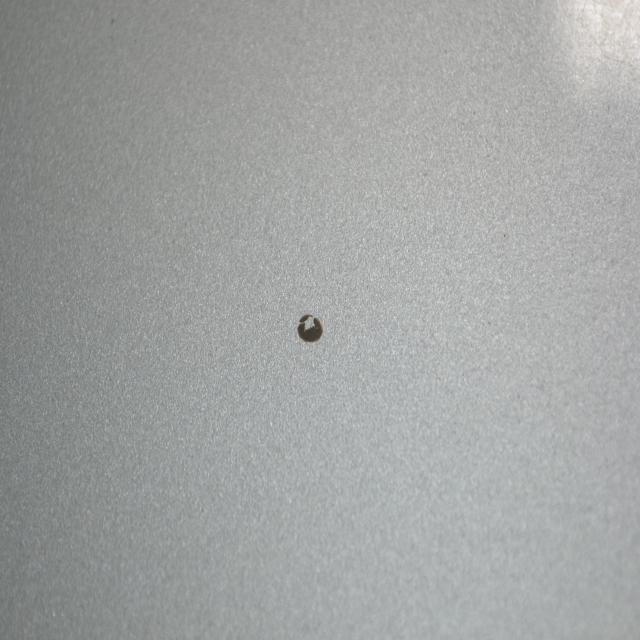dirt: (292, 295, 330, 353)
